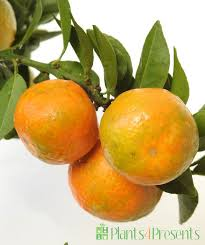orange: (97, 85, 201, 183), (63, 142, 166, 220), (13, 74, 98, 164)
